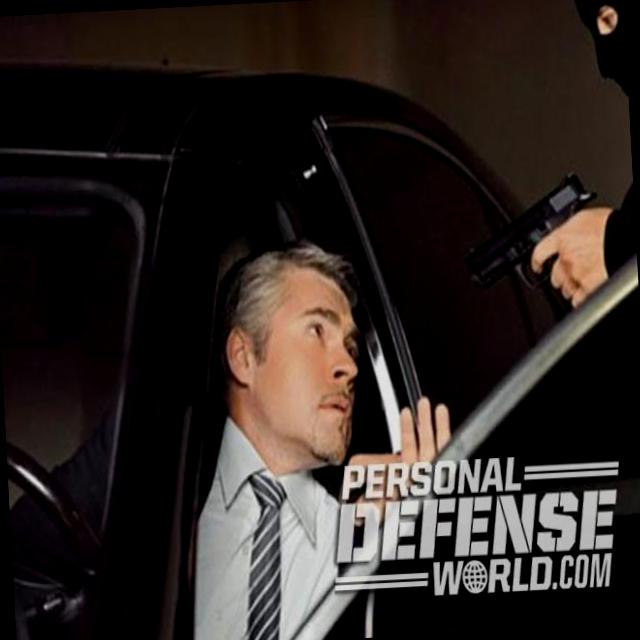handgun: (460, 160, 610, 306)
